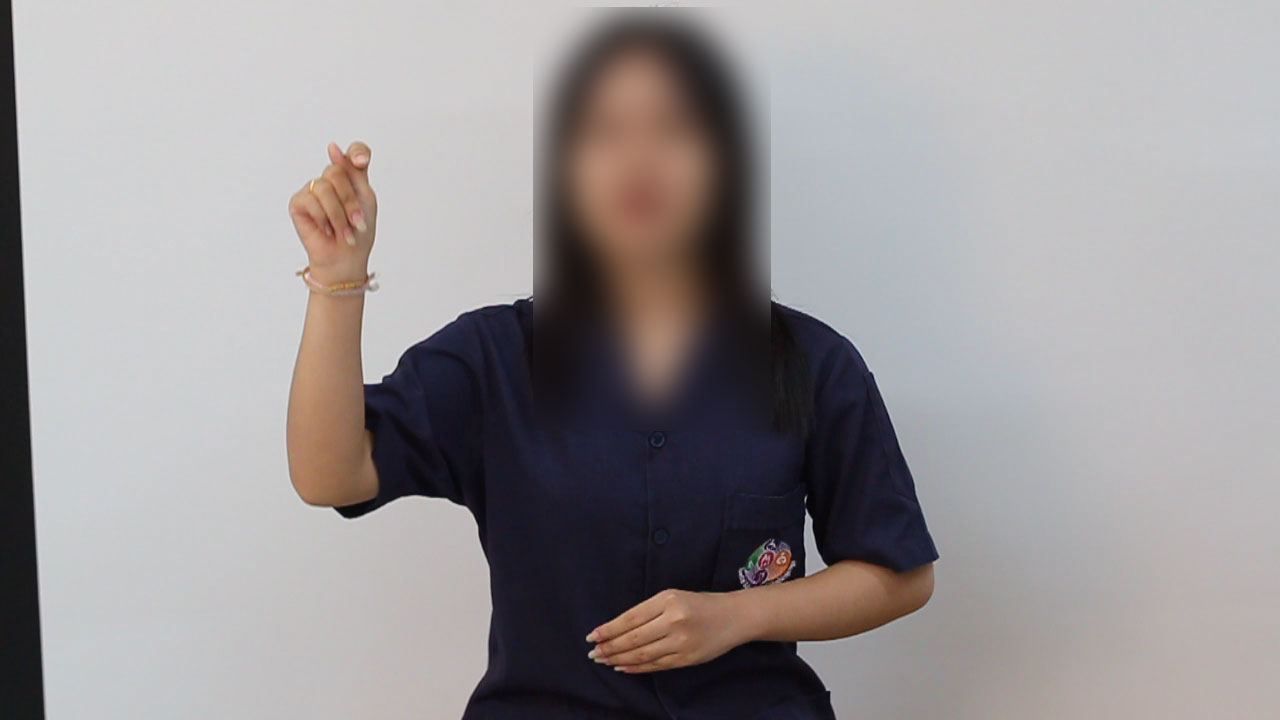tor: (268, 130, 413, 274)
